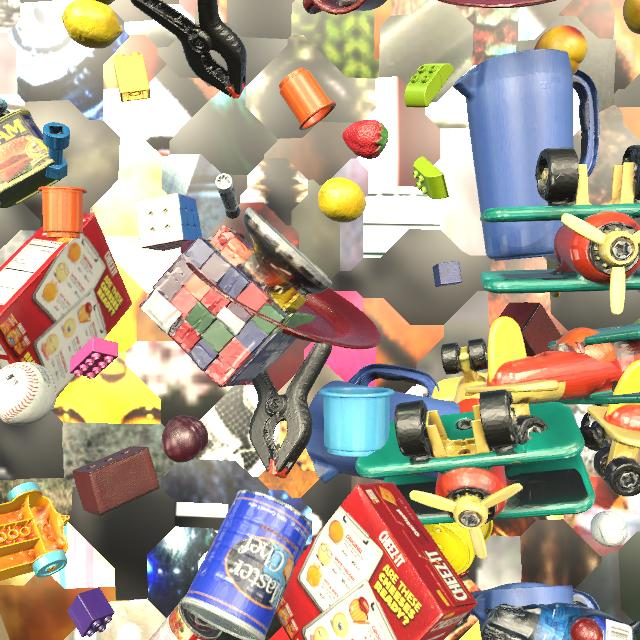ycb_002_master_chef_can: (181, 490, 313, 640)
ycb_003_cracker_box: (275, 482, 477, 640), (0, 213, 132, 398)
ycb_005_tomato_soup_can: (149, 595, 222, 640)
ycb_010_potted_meat_can: (0, 108, 63, 208)
ycb_012_strawberry: (343, 119, 389, 159)
ycb_014_lemon: (62, 0, 123, 49), (318, 177, 366, 223), (95, 0, 115, 5)
ycb_015_peach: (534, 25, 588, 75), (623, 0, 640, 34)
ycb_017_orange: (556, 327, 616, 363)
ycb_018_plum: (162, 415, 208, 463)
